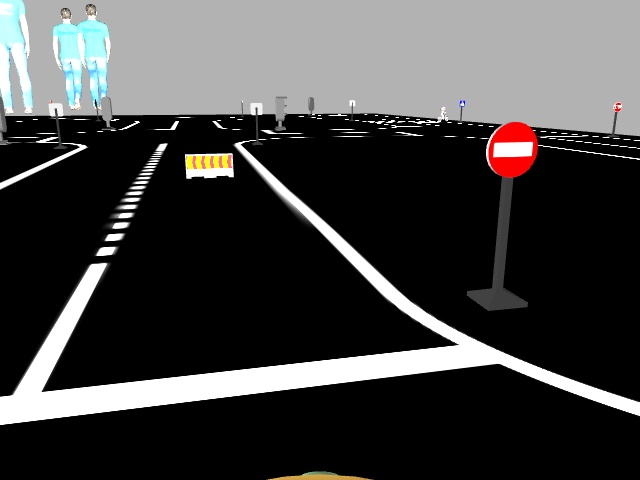ClosedRoadStand: (185, 154, 232, 176)
NoEntry: (484, 122, 538, 176)
